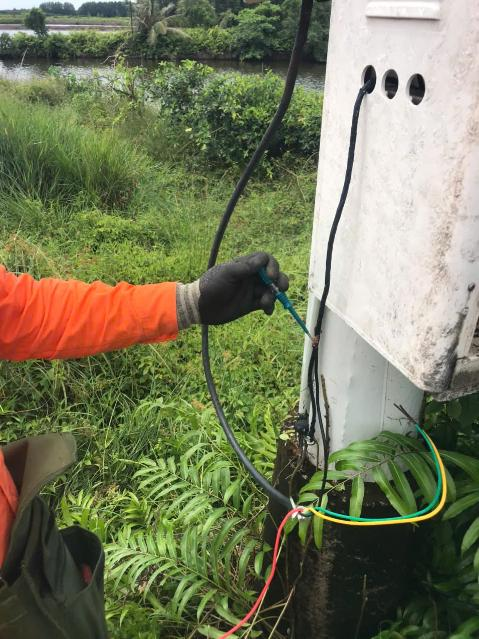gloves: (172, 244, 298, 335)
